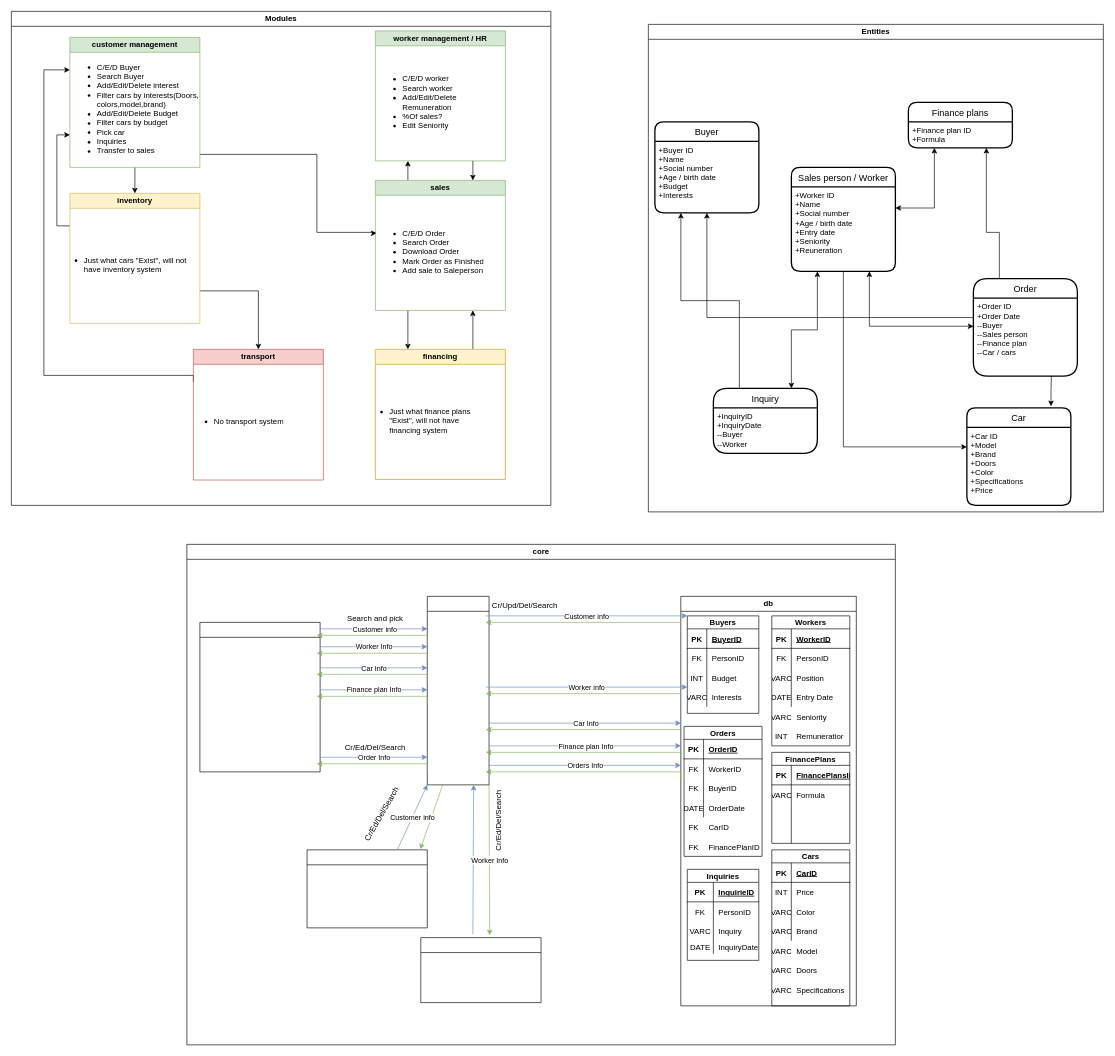
Image size: 1115x1056. Some labels were removed from this diagram. The centre of each missing label's shape, as x and y in pixels:
"backend" goes at (x=458, y=690).
"CM UI" goes at (x=366, y=888).
"HR UI" goes at (x=480, y=970).
"Sales UI" goes at (x=259, y=697).
